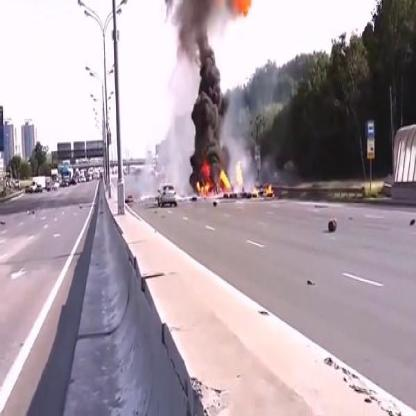fire: (196, 155, 246, 199), (216, 0, 255, 19), (252, 183, 277, 201)
